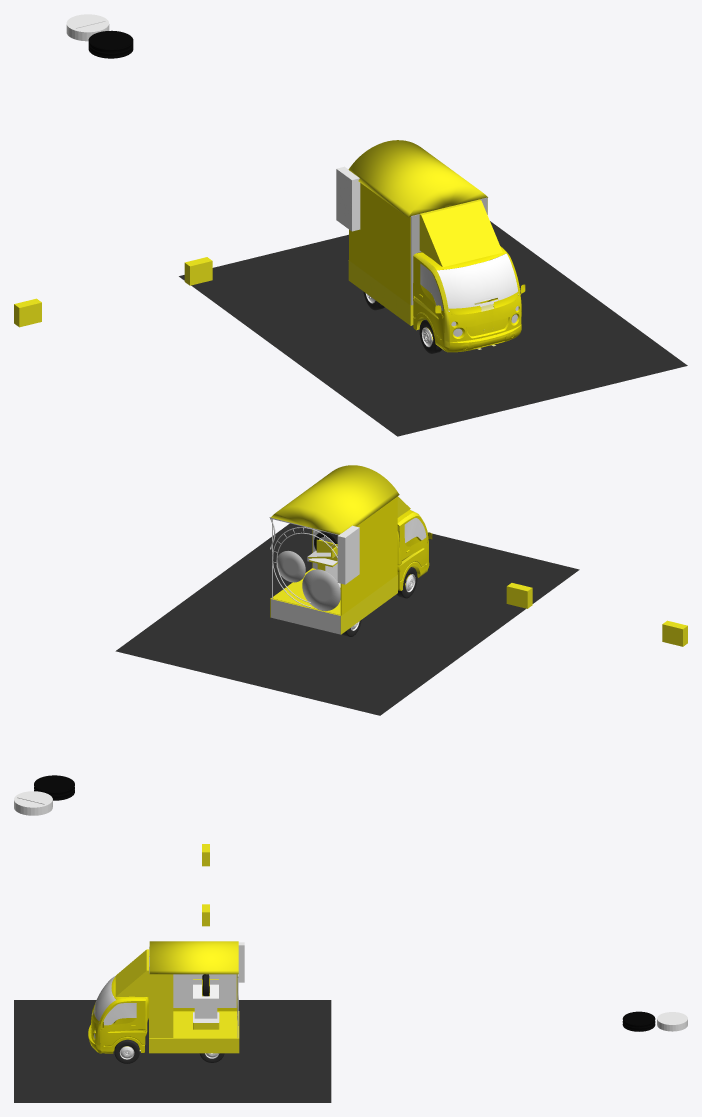
The model's file is tata_ace_van_stall.glb.
The picture shows the model from 3 angles, top to bottom: view 1: azimuth 30°, elevation 25°; view 2: azimuth 150°, elevation 25°; view 3: azimuth 270°, elevation 25°; orthographic projection. The views are drawn at different scales.
Parts seen in each view (by area): view 1: Plane, Arc009, Level18:NURBS002, Cube.002, Box065, Object018_24 - Default_0, Cube.003, Box069, Cylinder.003, Object015_07 - Default_0, Cylinder.002, Cube.010 (+1 smaller); view 2: Plane, Arc009, Cube.002, Box067, Level18:NURBS002, Cylinder139, Cube.003, Box069, Cylinder.003, Cylinder128, Cylinder.002, Box068 (+2 smaller); view 3: Plane, Arc009, Level18:NURBS002, Object014_07 - Default_0, Box066, assure logo-02, Box068, Box065, Cylinder.003, Cylinder.002, Object018_24 - Default_0, Cube.005.
Boxes of the visible parts, left/top/right/bottom form: Plane: left=179, top=221, right=687, bottom=436; Arc009: left=348, top=140, right=487, bottom=217; Level18:NURBS002: left=413, top=246, right=525, bottom=352; Cube.002: left=349, top=183, right=410, bottom=305; Box065: left=419, top=199, right=502, bottom=267; Object018_24 - Default_0: left=437, top=253, right=518, bottom=311; Cube.003: left=336, top=166, right=360, bottom=231; Box069: left=348, top=260, right=411, bottom=325; Cylinder.003: left=88, top=30, right=133, bottom=58; Object015_07 - Default_0: left=413, top=253, right=449, bottom=352; Cylinder.002: left=66, top=14, right=109, bottom=41; Cube.010: left=184, top=257, right=212, bottom=285; Plane: left=115, top=523, right=579, bottom=715; Arc009: left=271, top=465, right=399, bottom=534; Cube.002: left=340, top=496, right=397, bottom=615; Box067: left=271, top=598, right=340, bottom=634; Level18:NURBS002: left=397, top=509, right=432, bottom=590; Cylinder139: left=302, top=569, right=340, bottom=610; Cube.003: left=337, top=525, right=359, bottom=584; Box069: left=340, top=575, right=397, bottom=634; Cylinder.003: left=34, top=775, right=74, bottom=800; Cylinder128: left=276, top=550, right=305, bottom=582; Cylinder.002: left=14, top=791, right=52, bottom=815; Box068: left=273, top=568, right=340, bottom=615; Plane: left=14, top=1000, right=331, bottom=1102; Arc009: left=149, top=941, right=238, bottom=974; Level18:NURBS002: left=88, top=977, right=145, bottom=1053; Object014_07 - Default_0: left=149, top=973, right=173, bottom=1038; Box066: left=149, top=1038, right=239, bottom=1053; assure logo-02: left=173, top=974, right=236, bottom=1007; Box068: left=150, top=1011, right=237, bottom=1038; Box065: left=115, top=949, right=149, bottom=996; Cylinder.003: left=622, top=1011, right=655, bottom=1031; Cylinder.002: left=657, top=1012, right=687, bottom=1031; Object018_24 - Default_0: left=94, top=976, right=115, bottom=1023; Cube.005: left=194, top=1002, right=217, bottom=1018.
Size of the model in its own units: 12.09 by 3.14 by 18.08.
